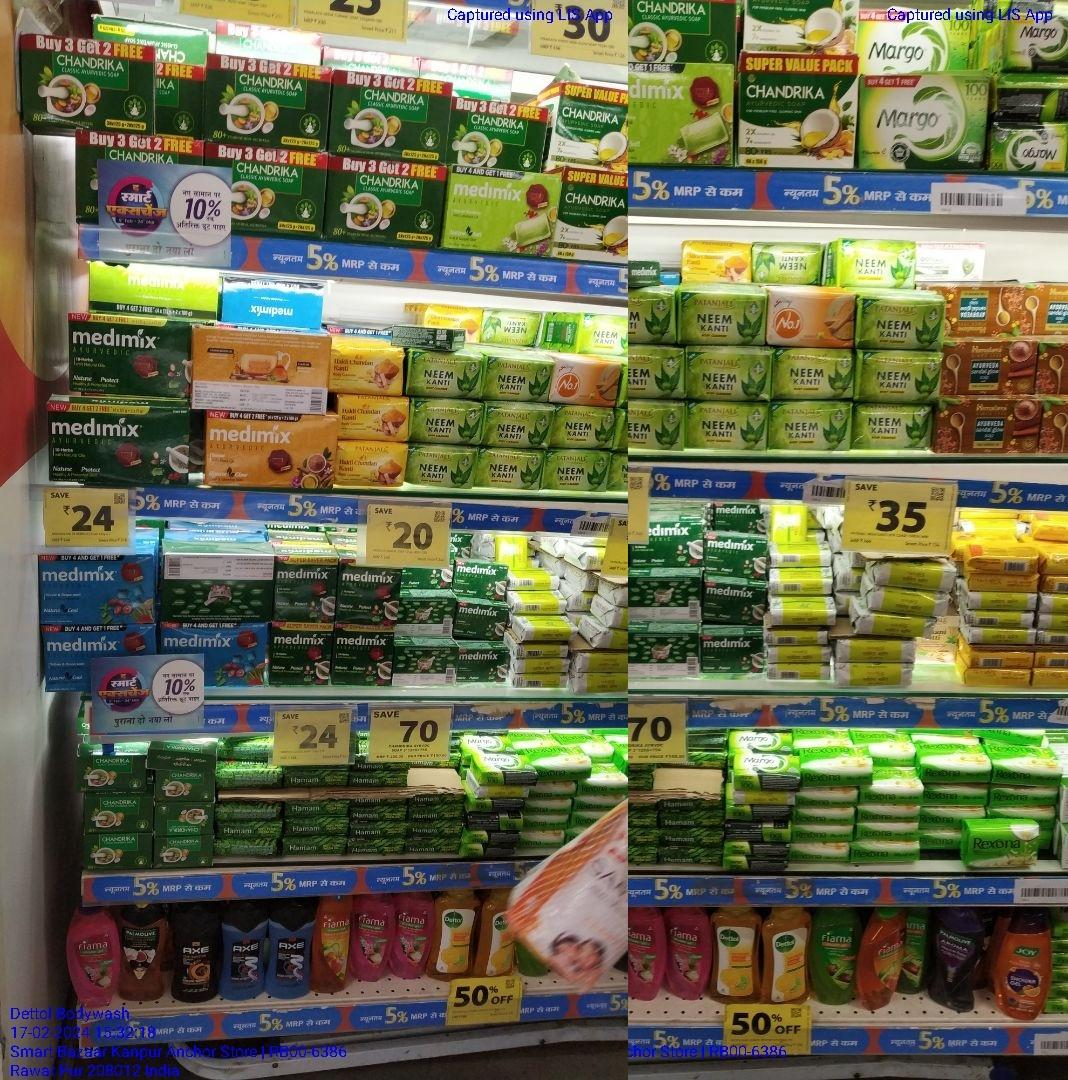Dettol_Bodywash_Refresh: (712, 905, 760, 1004), (764, 904, 806, 1003), (432, 888, 473, 980), (477, 892, 520, 977)
Fiama_Shower_Gel_Patchouli_and_Macadamia_250ML: (69, 904, 118, 1007), (668, 905, 709, 996), (628, 907, 664, 1003), (354, 894, 394, 979), (395, 892, 428, 979)
Fiama_Shower_Gel_Peach_and_Avocado_250ML: (862, 905, 906, 1013), (314, 897, 350, 993)
Joy_Shower_Gel_Mandarin_and_Lemongrass_250ML: (997, 916, 1048, 1026)
Palmolive_Luminous_Oils_With_White_Orchid_Shower_Gel_250ML: (121, 905, 168, 1003)
